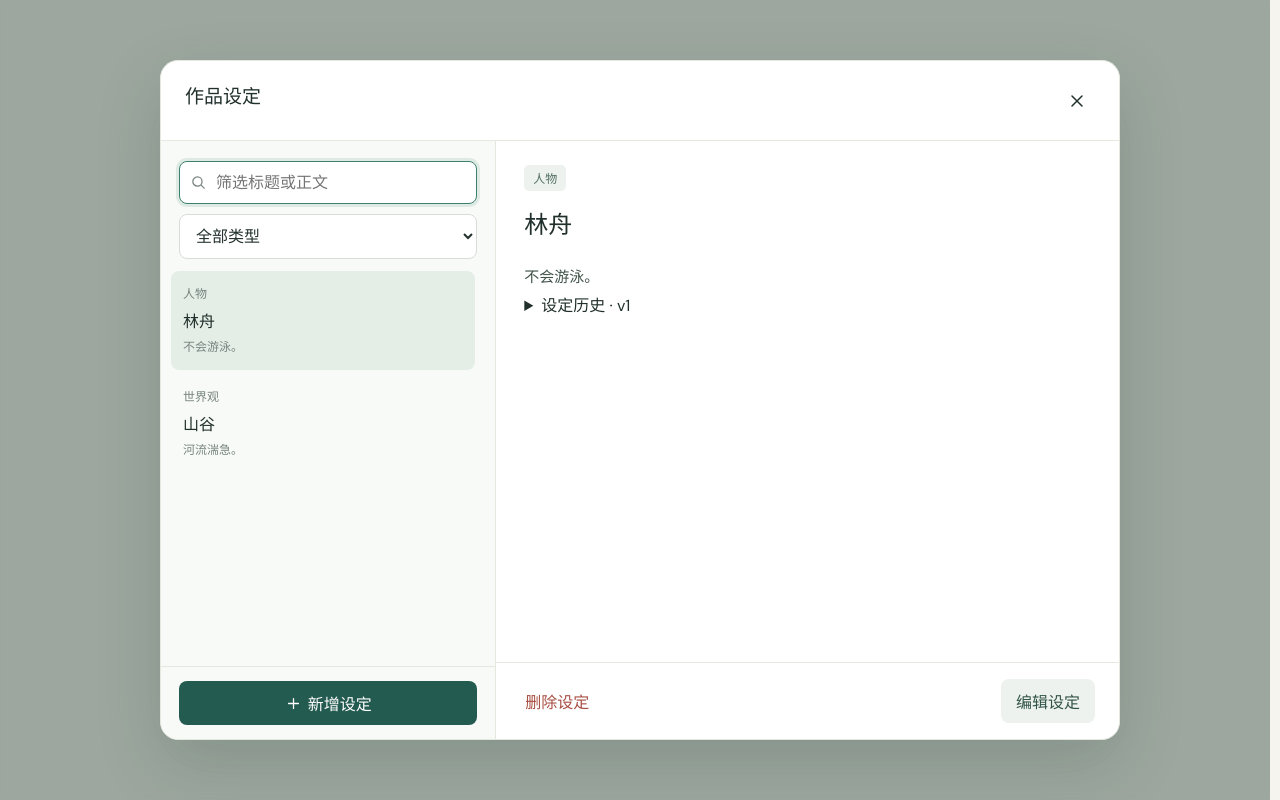
Scenario: failed saves preserve form values and allow retry
Expected: the heading "林舟" is shown, left=524, top=212, right=572, bottom=238
Click the button "编辑设定" at (1048, 701), box left=1001, top=679, right=1095, bottom=723
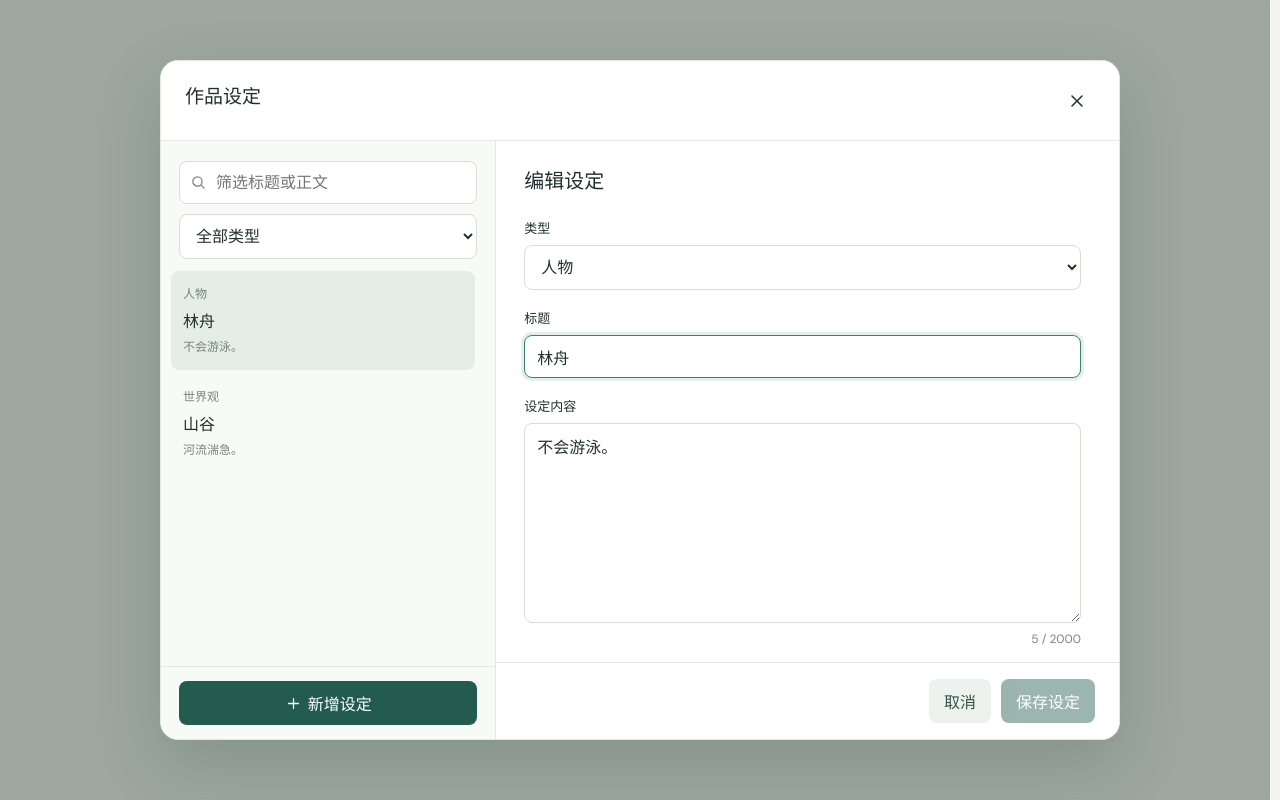
Replace the text in the text box labelled "设定内容" with "新增的人物经历。" at (803, 523), box left=524, top=423, right=1081, bottom=623
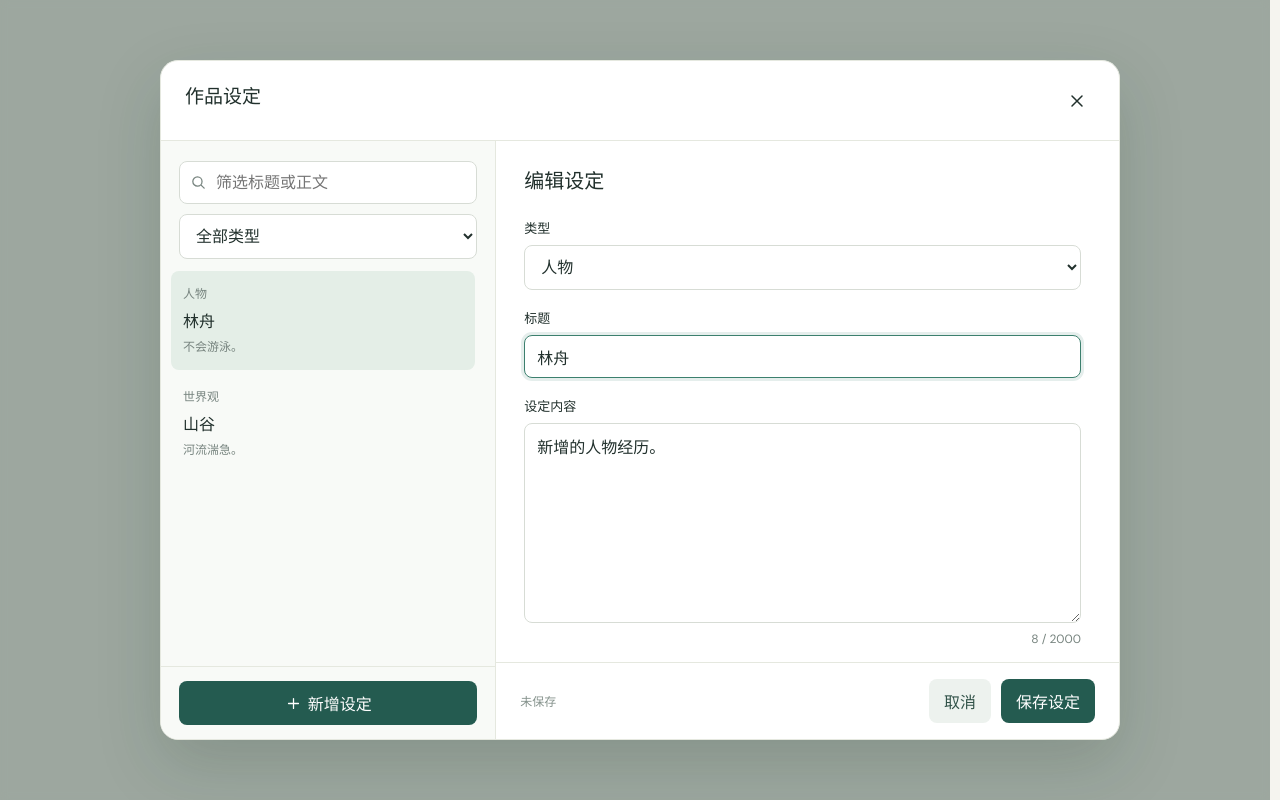
Click the button "保存设定" at (1048, 701), box left=1001, top=679, right=1095, bottom=723
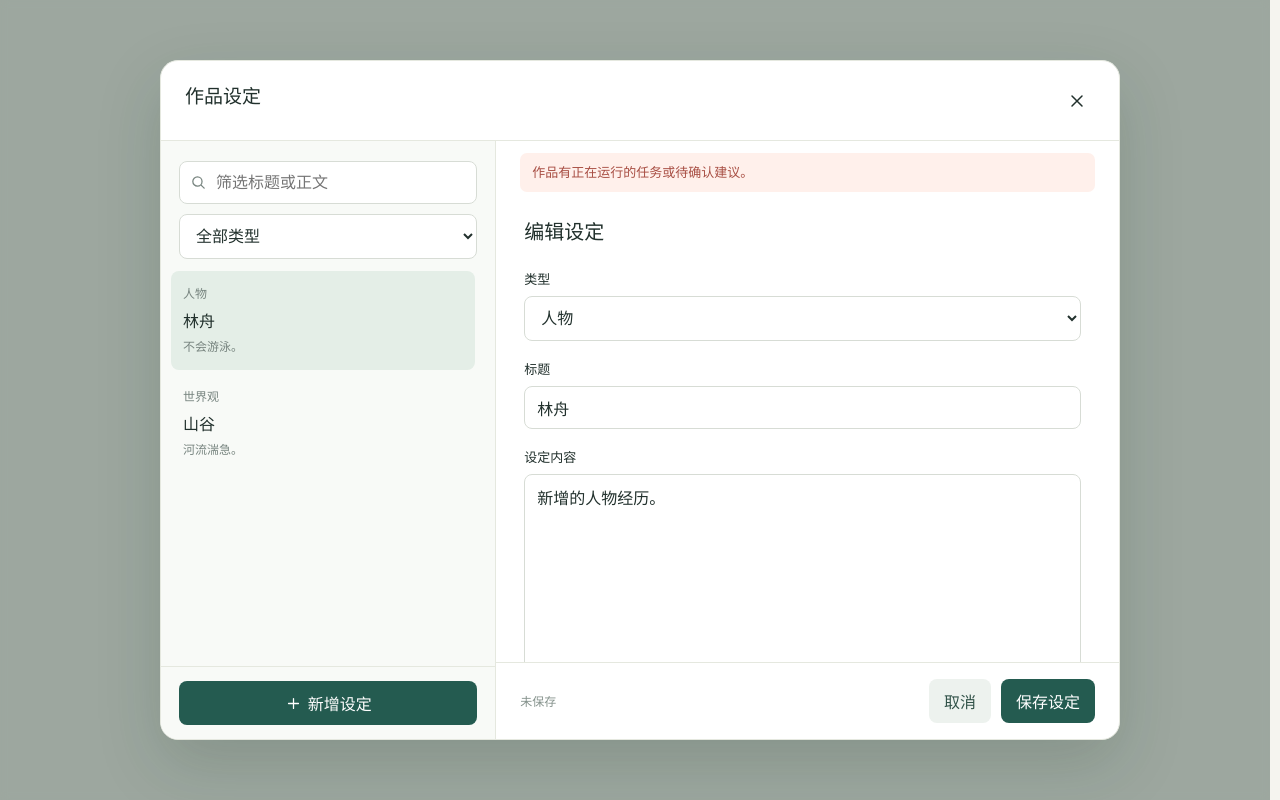
Now the button "保存设定" is enabled, box left=1001, top=679, right=1095, bottom=723
Now the message "作品有正在运行的任务或待确认建议。" is shown, box left=520, top=153, right=1095, bottom=192
